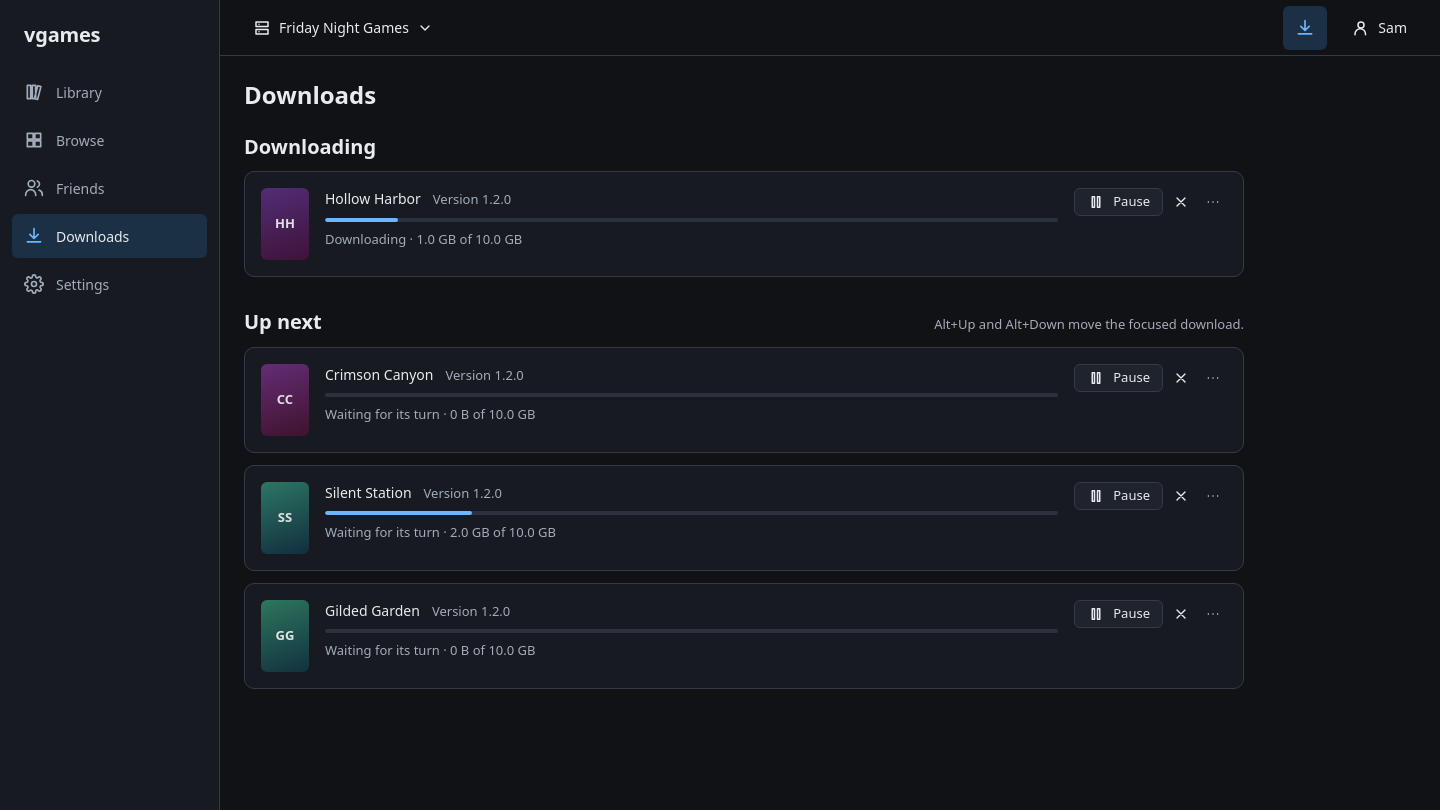
Test: downloads › paused › pausing the running job
The width and height of the screenshot is (1440, 810).
Click the button with aria-label "Pause Hollow Harbor".
click(1119, 202)  # box left=1074, top=188, right=1163, bottom=216
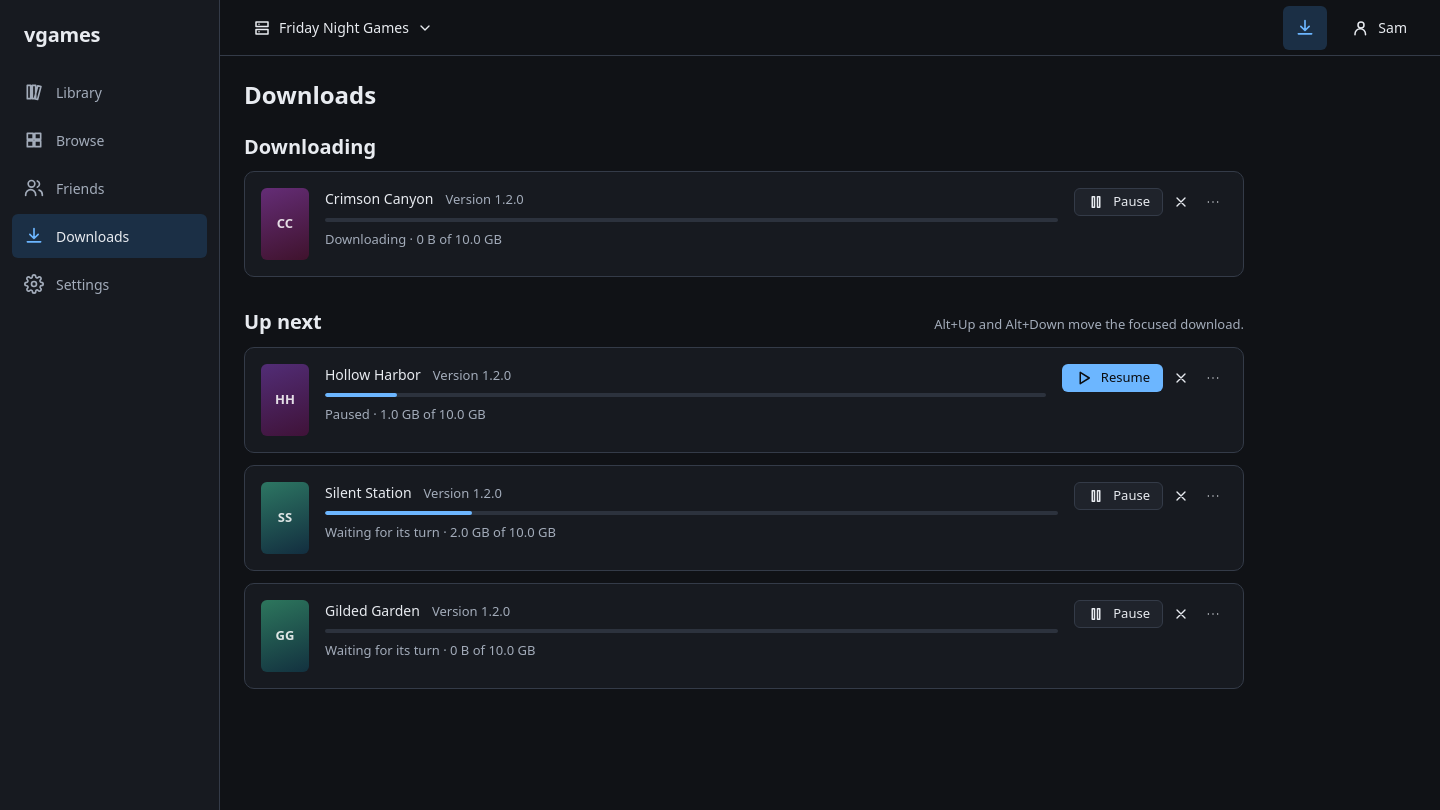
Check: the heading "Crimson Canyon" is shown, box left=325, top=188, right=433, bottom=209
Check: the button with aria-label "Resume Hollow Harbor" is shown, box left=1062, top=364, right=1163, bottom=392
